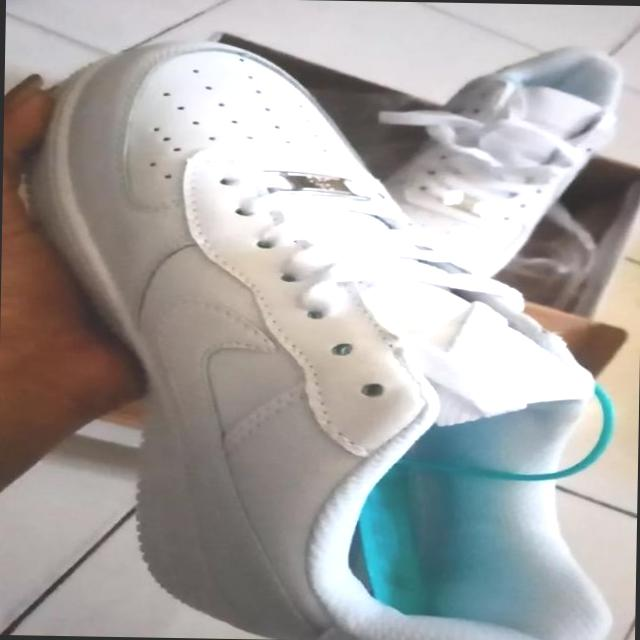nike_fake_airforce: (0, 37, 624, 640)
